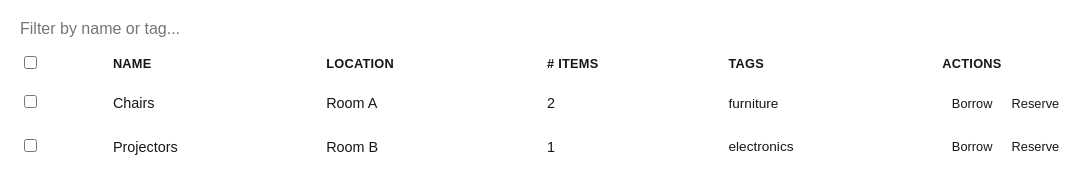
Test: shows empty state when nothing matches
In the field named "Filter resources": (172, 29) [12,12,332,46], type "nonexistent"
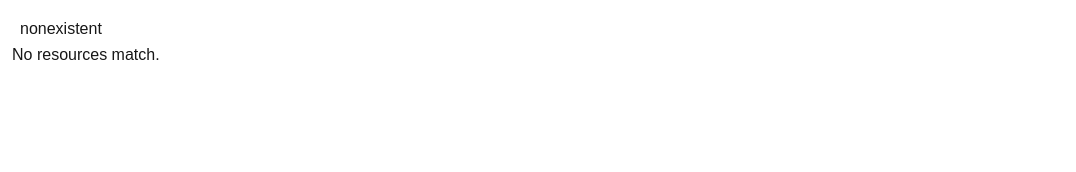
Check: the text "No resources match." is shown, box [12,46,160,63]
